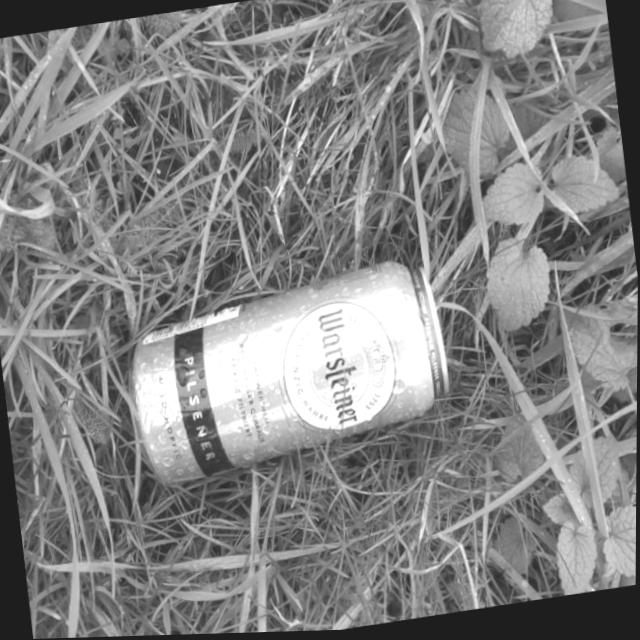Can-Metal: (111, 248, 462, 494)
